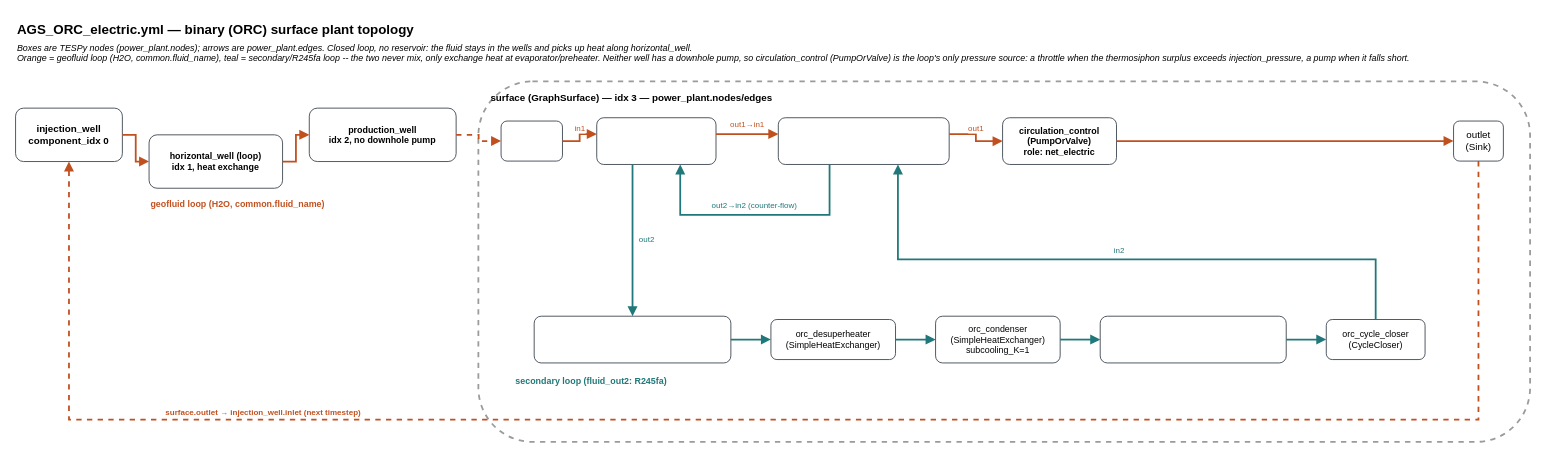
Some shapes in this 1547 by 457 pixel diagram are drawn without their labels. Each missing label, with the centre of its shape:
"evaporator (HeatExchanger) ttd_l=7, pr1/pr2=1.0" goes at (656,140).
"inlet (Source)" goes at (531,140).
"orc_feed_pump (Compressor) role: net_electric, p_out=0.5 MPa" goes at (1192,339).
"orc_turbine (Turbine) role: net_electric, p_out=0.125 MPa" goes at (632,339).
"preheater (HeatExchanger) pr1/pr2=1.0, fluid_out2=R245fa" goes at (863,140).
